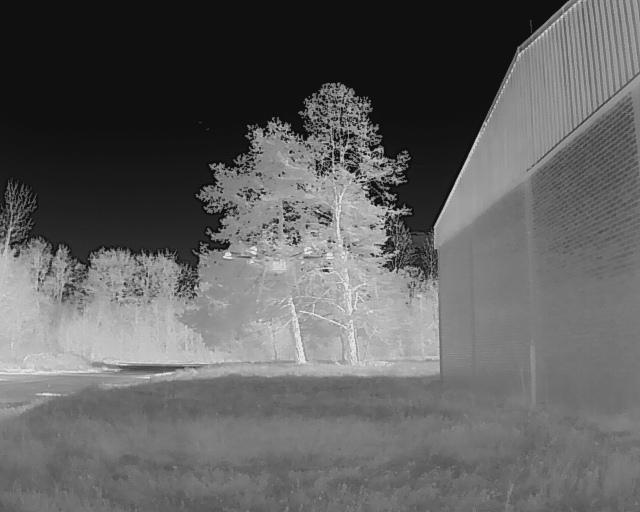drone: (220, 231, 342, 315)
